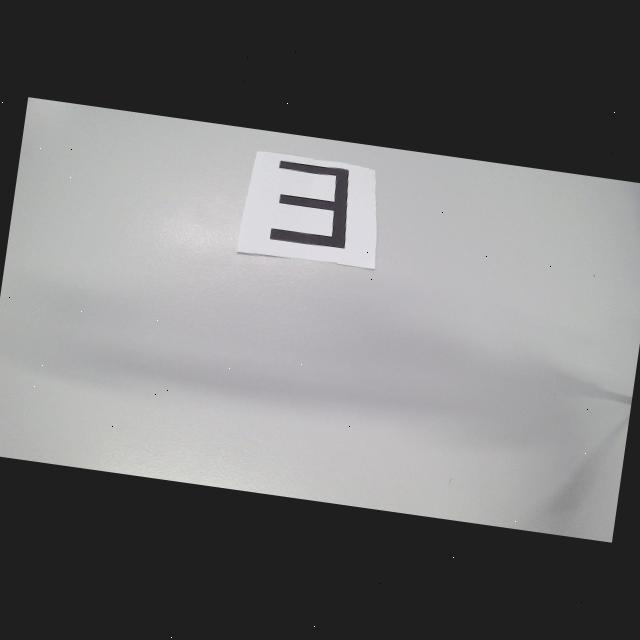FAKE: (268, 159, 358, 251)
